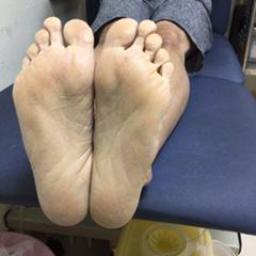Plantar View -Both Feet-: (7, 5, 175, 236)
